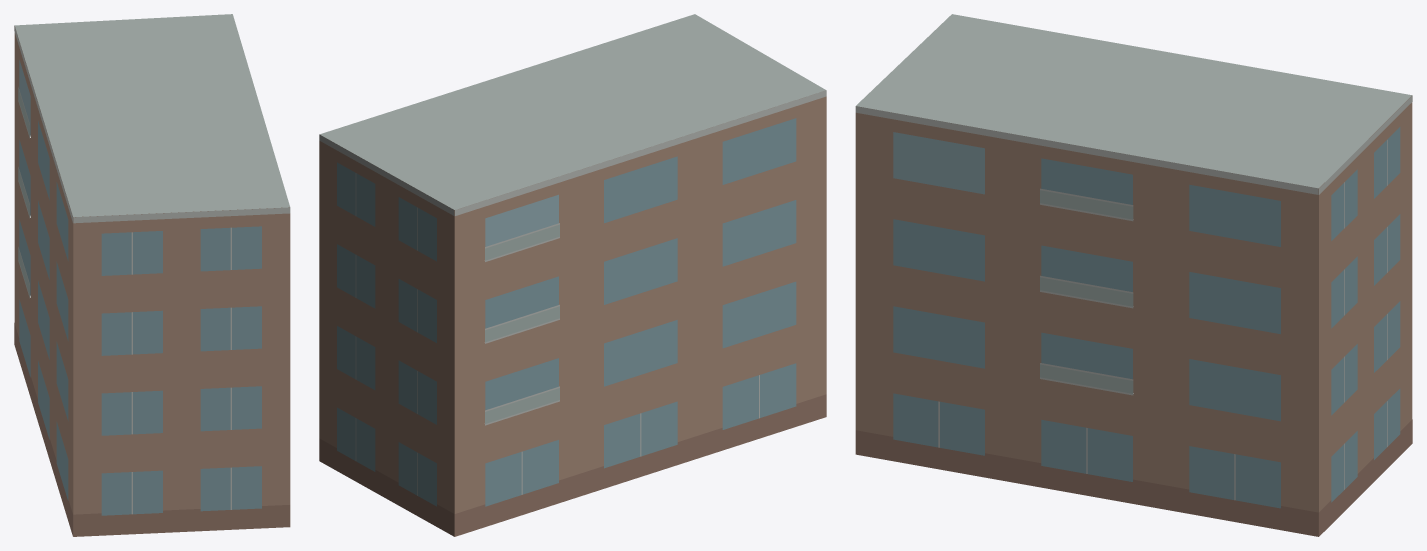
The model's file is survey-upis-32571746.glb.
3 renders of one model, left to right at view 1: azimuth 30°, elevation 25°; view 2: azimuth 150°, elevation 25°; view 3: azimuth 270°, elevation 25°, orthographic. The views are drawn at different scales.
Visible parts, largest first — view 1: survey-upis-32571746.tmp; view 2: survey-upis-32571746.tmp; view 3: survey-upis-32571746.tmp.
Part boxes in pixels (x1,y1,x2,y2): survey-upis-32571746.tmp: (14, 14, 290, 536); survey-upis-32571746.tmp: (319, 14, 826, 536); survey-upis-32571746.tmp: (855, 14, 1412, 536).
Bounding box in the file's own units: 13.75 × 12.8 × 18.54.
